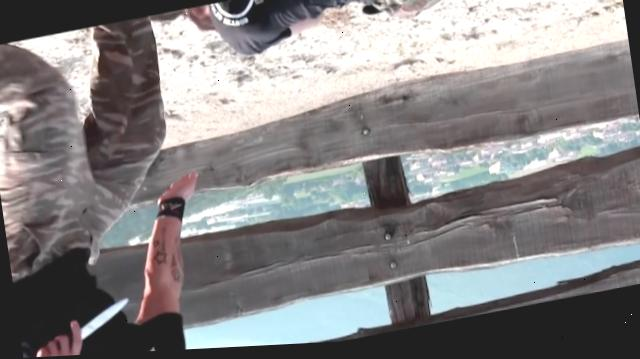pocket-knife: (48, 294, 135, 357)
